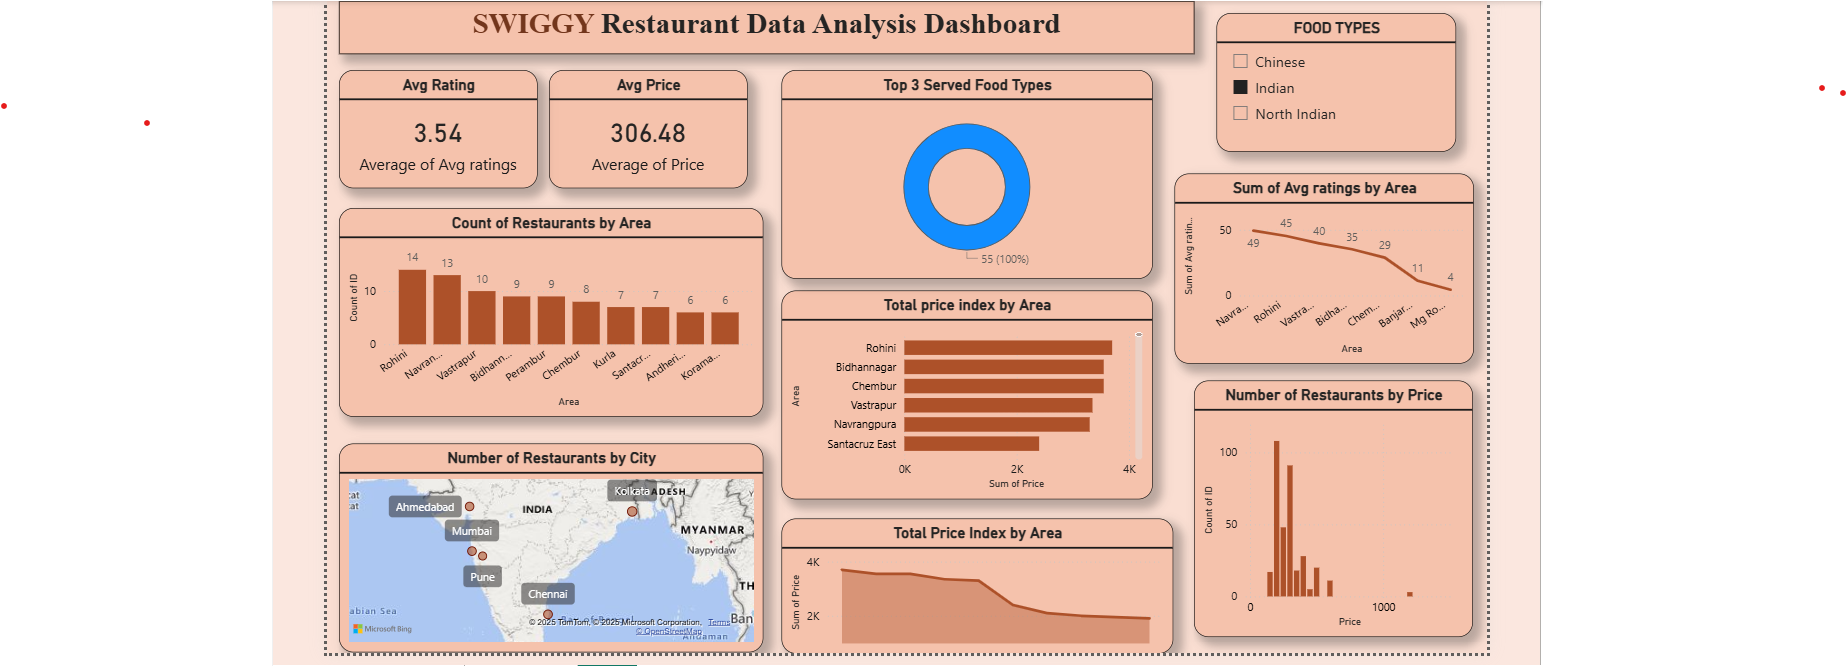

The page's visual inventory and layout, read from the dashboard file:
{"tool":"powerbi","page":{"name":"Page 1","canvas":[1280,720],"ordinal":0},"visuals":[{"type":"card","title":"Avg Rating","fields":{"Values":["Avg(swiggy.Avg ratings)"]},"box":[13.2,75.6,219.2,130.4],"z":0},{"type":"textbox","box":[13.2,0,944.9,58.6],"z":1000},{"type":"card","title":"Avg Price ","fields":{"Values":["Avg(swiggy.Price)"]},"box":[245.7,75.6,219.2,130.4],"z":2000},{"type":"columnChart","title":"Count of Restaurants  by Area","fields":{"Y":["CountNonNull(swiggy.ID)"],"Category":["swiggy.Area"]},"box":[13.2,228.7,468.7,230.6],"z":3000},{"type":"donutChart","title":"Top 3 Served Food Types","fields":{"Y":["CountNonNull(swiggy.ID)"],"Category":["swiggy.Food type"]},"box":[502.7,75.6,410.1,230.6],"z":4000},{"type":"map","title":"Number of Restaurants by City","fields":{"Category":["swiggy.City"],"Size":["CountNonNull(swiggy.ID)"]},"box":[13.2,489.5,468.7,230.6],"z":5000},{"type":"barChart","title":"Total price index by Area ","fields":{"Category":["swiggy.Area"],"Y":["Sum(swiggy.Price)"]},"box":[502.7,319.4,410.1,230.6],"z":6000},{"type":"slicer","title":"FOOD TYPES","fields":{"Values":["swiggy.Food type"]},"box":[982.7,13.2,264.6,153.1],"z":7000},{"type":"areaChart","title":"Total Price Index by Area","fields":{"Category":["swiggy.Area"],"Y":["Sum(swiggy.Price)"]},"box":[502.7,570.7,432.8,149.3],"z":8000},{"type":"lineChart","fields":{"Category":["swiggy.Area"],"Y":["Sum(swiggy.Avg ratings)"]},"box":[935.4,190.9,330.7,209.8],"z":9000},{"type":"clusteredColumnChart","title":"Number of Restaurants by Price","fields":{"Category":["swiggy.Price"],"Y":["CountNonNull(swiggy.ID)"]},"box":[958.1,419.5,308,283.5],"z":10000}]}

Visuals, with their boxes in screenshot pixels (x1, y1, x2, y2):
"Avg Rating" card: [left=325, top=64, right=525, bottom=184]
textbox: [left=325, top=0, right=1189, bottom=49]
"Avg Price " card: [left=537, top=64, right=738, bottom=184]
"Count of Restaurants  by Area" columnChart: [left=325, top=205, right=754, bottom=416]
"Top 3 Served Food Types" donutChart: [left=773, top=64, right=1148, bottom=275]
"Number of Restaurants by City" map: [left=325, top=443, right=754, bottom=654]
"Total price index by Area " barChart: [left=773, top=288, right=1148, bottom=499]
"FOOD TYPES" slicer: [left=1212, top=7, right=1454, bottom=147]
"Total Price Index by Area" areaChart: [left=773, top=518, right=1169, bottom=654]
lineChart - swiggy.Area x Sum(swiggy.Avg ratings): [left=1169, top=170, right=1471, bottom=362]
"Number of Restaurants by Price" clusteredColumnChart: [left=1189, top=379, right=1471, bottom=639]
